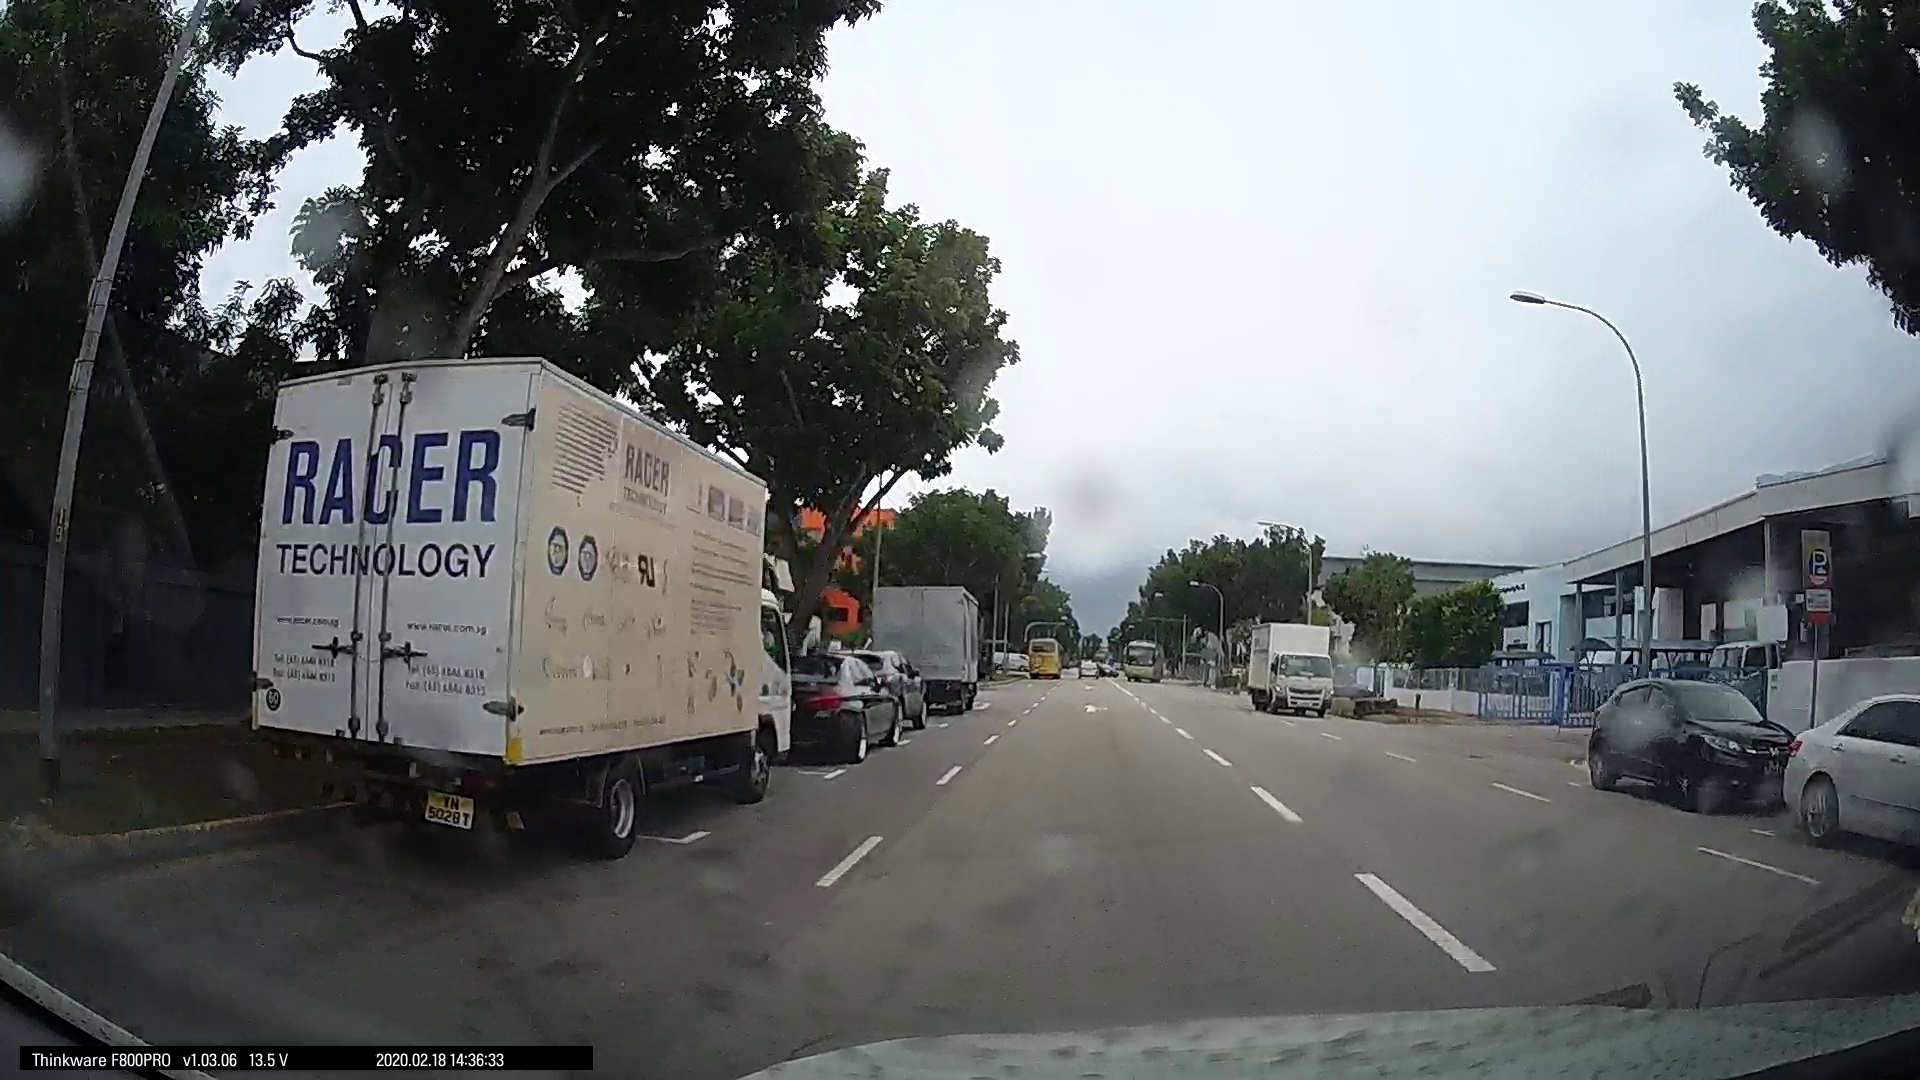Heavy Vehicle: (167, 527, 409, 764), (591, 629, 684, 723)
Light Vehicle: (1232, 691, 1706, 895), (819, 644, 1018, 779), (694, 658, 822, 733)
Motorcycle: (448, 624, 514, 717)
